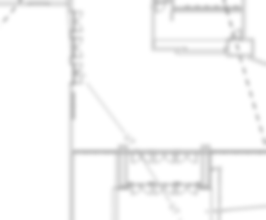door: (229, 27, 241, 41), (154, 1, 167, 13)
double door: (71, 36, 84, 59), (71, 62, 84, 85), (72, 9, 84, 33), (130, 183, 152, 196), (130, 152, 153, 164), (153, 183, 175, 195), (177, 183, 198, 195), (176, 153, 197, 164), (154, 153, 175, 163)
window: (27, 1, 50, 8)
